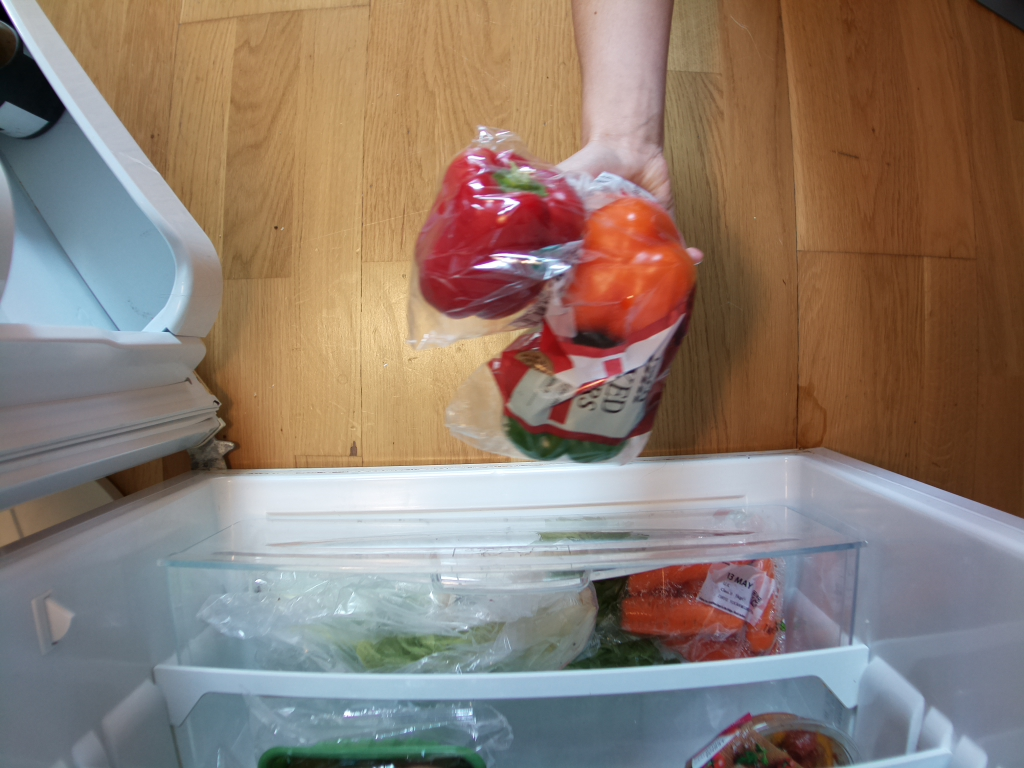pepper: (414, 136, 586, 327), (547, 191, 701, 342), (494, 419, 635, 464)
